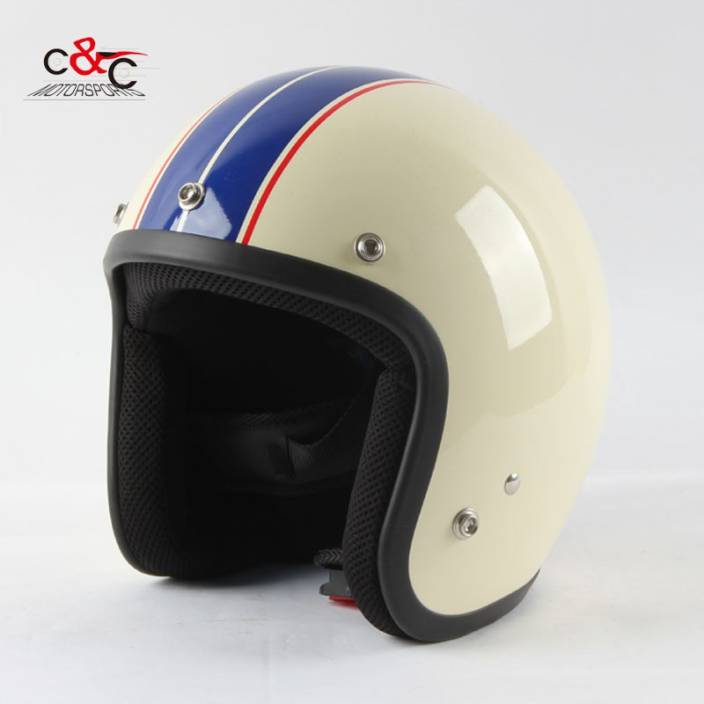with_helmet: (99, 64, 621, 640)
